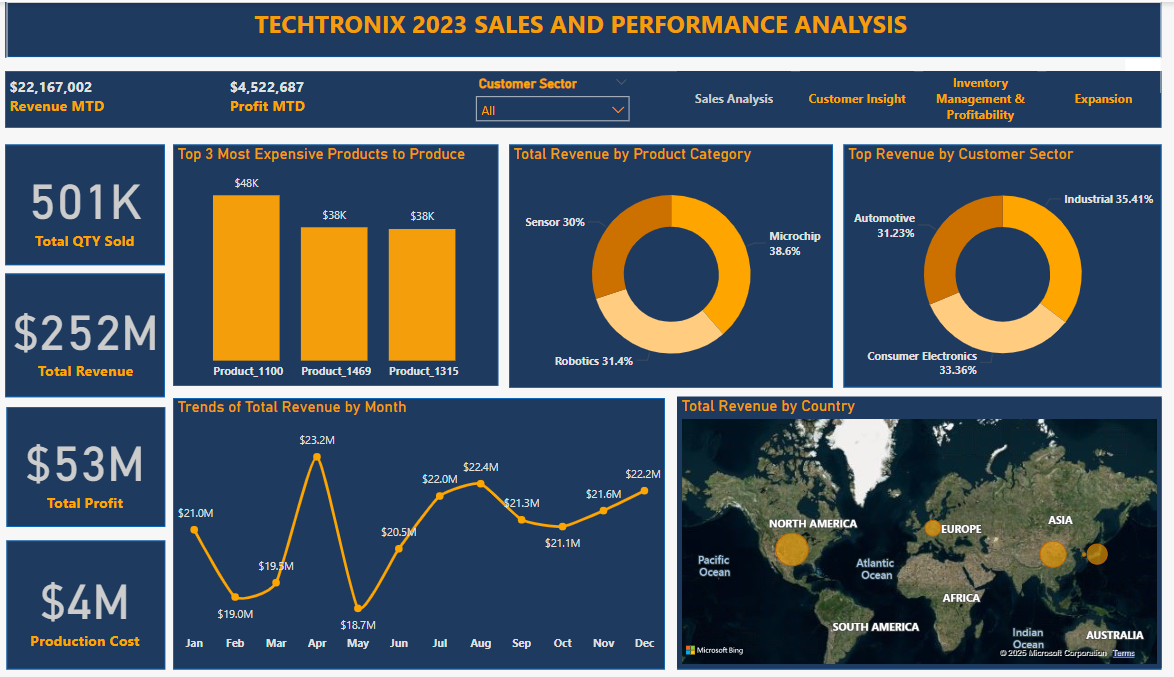

This screenshot's page, from the dashboard's own definition file:
{"tool":"powerbi","page":{"name":"Sales Analysis","canvas":[1302,750],"ordinal":0},"visuals":[{"type":"shape","box":[9.9,0,1277.5,61.3],"z":0},{"type":"shape","box":[751.7,436.7,535,300],"z":1000},{"type":"shape","box":[195.5,437.4,543.5,299.9],"z":2000},{"type":"shape","box":[936.1,157.4,351.3,268.4],"z":3000},{"type":"shape","box":[566.3,157.5,357.9,268.8],"z":4000},{"type":"shape","box":[195.5,157.4,359.5,266.8],"z":5000},{"type":"shape","box":[11.6,594.8,175.6,142.5],"z":6000},{"type":"shape","box":[11.6,447.4,175.6,132.6],"z":7000},{"type":"shape","box":[9.5,300.6,176.6,136.8],"z":8000},{"type":"shape","box":[9.5,157.5,176.6,133.6],"z":9000},{"type":"shape","box":[9.9,76.2,1277.5,63],"z":10000},{"type":"clusteredColumnChart","title":"Top 3 Most Expensive Products to Produce","fields":{"Y":["Measures (2).Production Cost"],"Category":["Product_Dim.ProductName"]},"box":[195.5,157.4,359.5,268.4],"z":11000},{"type":"donutChart","title":"Total Revenue by Product Category","fields":{"Category":["Product_Dim.ProductCategory"],"Y":["Measures (2).Total Revenue"]},"box":[566.7,157.4,357.9,266.8],"z":12000},{"type":"donutChart","title":"Top Revenue by Customer Sector","fields":{"Category":["Customer_Dim.CustomerSector"],"Y":["Measures (2).Total Revenue"]},"box":[936.1,157.4,351.3,266.8],"z":13000},{"type":"lineChart","title":"Trends of Total Revenue by Month","fields":{"Category":["Calender_Dim.Month_Name"],"Y":["Measures (2).Total Revenue"]},"box":[195.5,437.4,543.5,288.3],"z":14000},{"type":"textbox","box":[11.6,0,1275.8,61.3],"z":15000},{"type":"multiRowCard","fields":{"Values":["Measures (2).Revenue MTD","Measures (2).Profit MTD"]},"box":[9.5,76.3,496.3,62],"z":16000},{"type":"slicer","fields":{"Values":["Customer_Dim.CustomerSector"]},"box":[520.1,76.3,189.3,58.9],"z":17000},{"type":"pageNavigator","box":[752.2,76.2,535.2,59.6],"z":18000},{"type":"card","fields":{"Values":["Measures (2).Total QTY Sold"]},"box":[9.9,157.4,175.6,134.2],"z":19000},{"type":"card","fields":{"Values":["Measures (2).Total Revenue"]},"box":[9.9,299.9,177.3,137.5],"z":20000},{"type":"card","fields":{"Values":["Measures (2).Total Profit"]},"box":[9.9,447.4,175.6,132.6],"z":21000},{"type":"card","fields":{"Values":["Measures (2).Production Cost"]},"box":[9.9,594.8,175.6,142.5],"z":22000},{"type":"map","fields":{"Size":["Measures (2).Total Revenue"],"Category":["Location_Dim.Country"]},"box":[752.2,435.8,535.2,299.9],"z":23000}]}

Visuals, with their boxes in screenshot pixels (x1, y1, x2, y2), scaled from the page's 1302x750 canvas onto the 1174x677 screenshot:
shape: pyautogui.locateOnScreen(9, 0, 1161, 55)
shape: pyautogui.locateOnScreen(678, 394, 1160, 665)
shape: pyautogui.locateOnScreen(176, 395, 666, 666)
shape: pyautogui.locateOnScreen(844, 142, 1161, 384)
shape: pyautogui.locateOnScreen(511, 142, 833, 385)
shape: pyautogui.locateOnScreen(176, 142, 500, 383)
shape: pyautogui.locateOnScreen(10, 537, 169, 666)
shape: pyautogui.locateOnScreen(10, 404, 169, 524)
shape: pyautogui.locateOnScreen(9, 271, 168, 395)
shape: pyautogui.locateOnScreen(9, 142, 168, 263)
shape: pyautogui.locateOnScreen(9, 69, 1161, 126)
"Top 3 Most Expensive Products to Produce" clusteredColumnChart: pyautogui.locateOnScreen(176, 142, 500, 384)
"Total Revenue by Product Category" donutChart: pyautogui.locateOnScreen(511, 142, 834, 383)
"Top Revenue by Customer Sector" donutChart: pyautogui.locateOnScreen(844, 142, 1161, 383)
"Trends of Total Revenue by Month" lineChart: pyautogui.locateOnScreen(176, 395, 666, 655)
textbox: pyautogui.locateOnScreen(10, 0, 1161, 55)
multiRowCard - Measures (2).Revenue MTD x Measures (2).Profit MTD: pyautogui.locateOnScreen(9, 69, 456, 125)
slicer - Customer_Dim.CustomerSector: pyautogui.locateOnScreen(469, 69, 640, 122)
pageNavigator: pyautogui.locateOnScreen(678, 69, 1161, 123)
card - Measures (2).Total QTY Sold: pyautogui.locateOnScreen(9, 142, 167, 263)
card - Measures (2).Total Revenue: pyautogui.locateOnScreen(9, 271, 169, 395)
card - Measures (2).Total Profit: pyautogui.locateOnScreen(9, 404, 167, 524)
card - Measures (2).Production Cost: pyautogui.locateOnScreen(9, 537, 167, 666)
map - Measures (2).Total Revenue x Location_Dim.Country: pyautogui.locateOnScreen(678, 393, 1161, 664)
